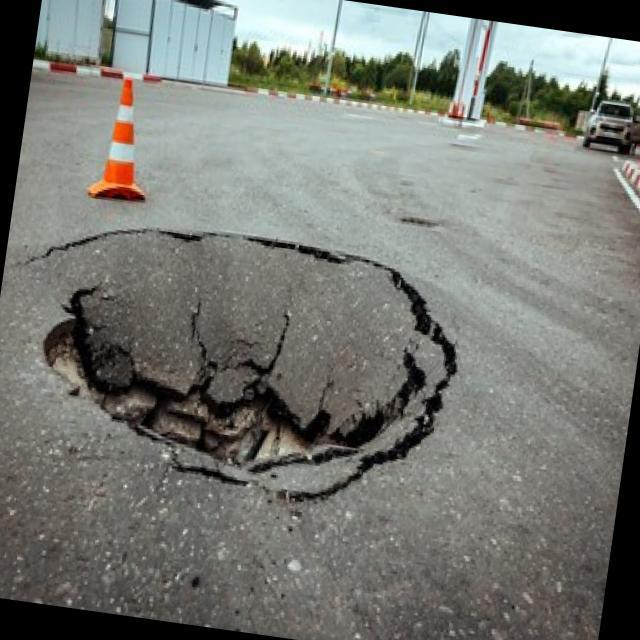Pothole: (13, 205, 475, 529), (399, 210, 444, 234)
